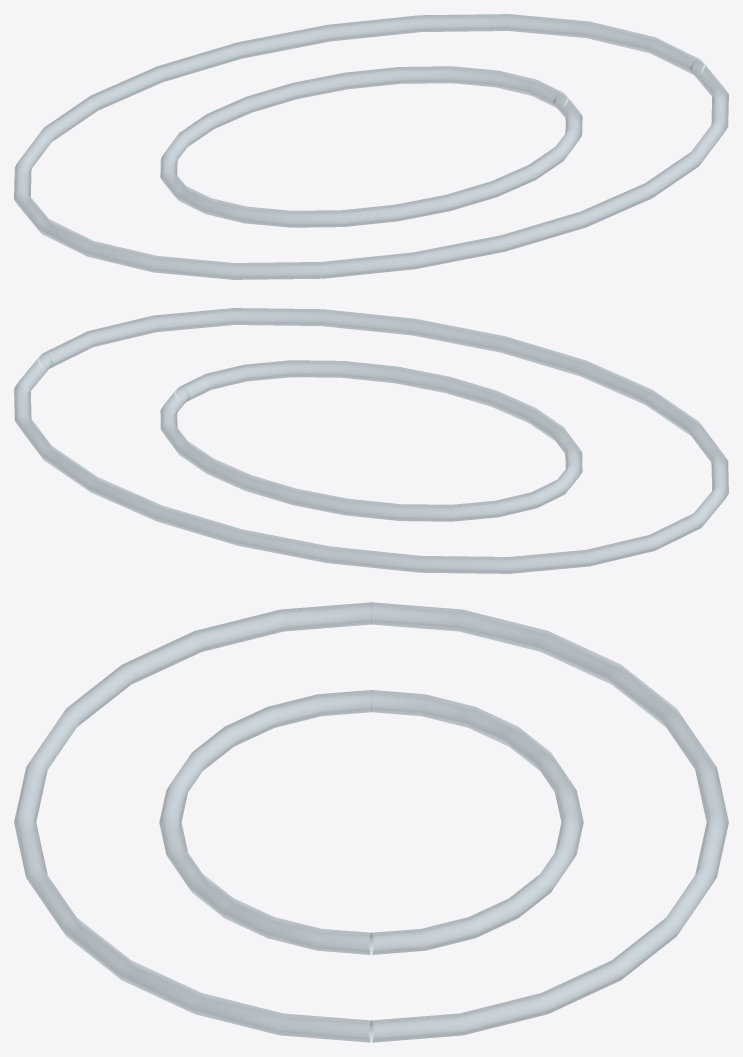
The model's file is CourtyardPuddle.glb.
3 renders of one model, top to bottom at view 1: azimuth 30°, elevation 25°; view 2: azimuth 150°, elevation 25°; view 3: azimuth 270°, elevation 25°, orthographic. The views are drawn at different scales.
Visible parts, largest first — view 1: RainRipple.005, RainRipple.004; view 2: RainRipple.005, RainRipple.004; view 3: RainRipple.005, RainRipple.004.
Part boxes in pixels (x1=…): RainRipple.005: x1=14, y1=14, x2=728, y2=279; RainRipple.004: x1=160, y1=66, x2=582, y2=227; RainRipple.005: x1=14, y1=308, x2=728, y2=573; RainRipple.004: x1=160, y1=360, x2=582, y2=521; RainRipple.005: x1=14, y1=602, x2=728, y2=1042; RainRipple.004: x1=159, y1=690, x2=583, y2=954.
Size of what is drawn, in the model's own units: 0.6339 by 0.0121 by 0.448.
